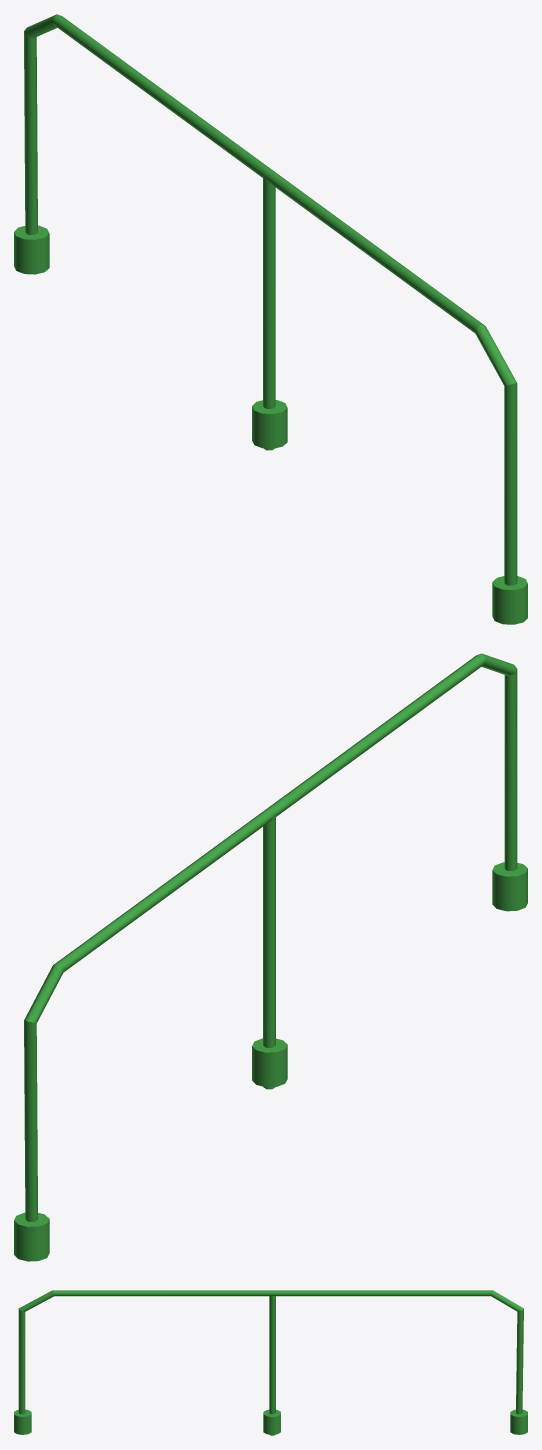
The model's file is ladder fence.FBX.
3 renders of one model, top to bottom at view 1: azimuth 30°, elevation 25°; view 2: azimuth 150°, elevation 25°; view 3: azimuth 270°, elevation 25°, orthographic. The views are drawn at different scales.
Parts seen in each view (by area): view 1: Line055; view 2: Line055; view 3: Line055.
Boxes of the visible parts, bbox=[...] form: Line055: bbox=[14, 14, 527, 624]; Line055: bbox=[14, 653, 527, 1261]; Line055: bbox=[14, 1290, 527, 1435].
Bounding box in the file's own units: 0.14 × 1.2 × 3.89.
